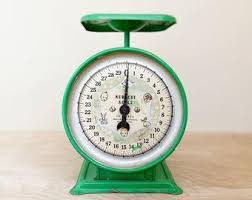Industrial Scale: (60, 12, 189, 195)
